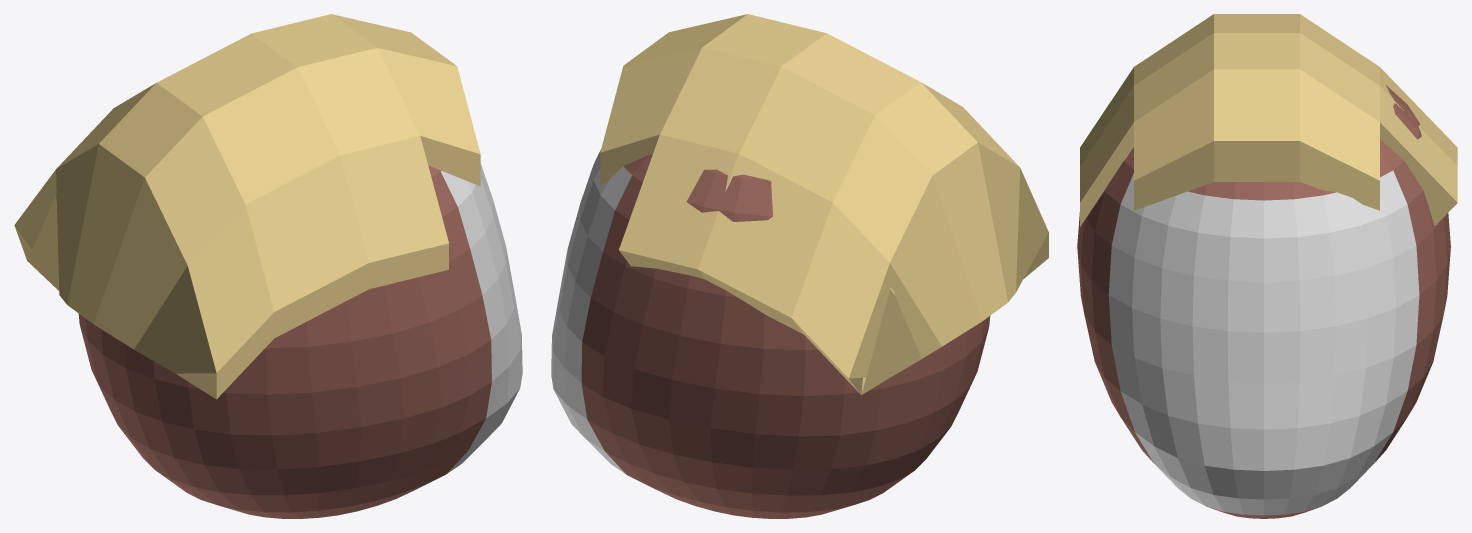
File: MacronHead.fbx
3 renders of one model, left to right at view 1: azimuth 30°, elevation 25°; view 2: azimuth 150°, elevation 25°; view 3: azimuth 270°, elevation 25°, orthographic. The views are drawn at different scales.
Parts seen in each view (by area): view 1: Macron; view 2: Macron; view 3: Macron.
Part boxes in pixels (left/top/right/bottom): Macron: left=14, top=14, right=522, bottom=518; Macron: left=551, top=14, right=1048, bottom=518; Macron: left=1077, top=14, right=1457, bottom=518.
Bounding box in the file's own units: 97.15 × 117 × 121.
